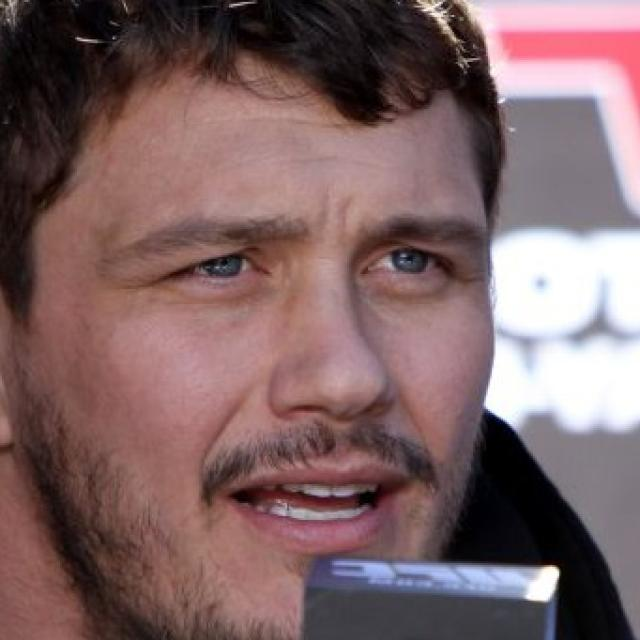Depress: (31, 68, 493, 636)
